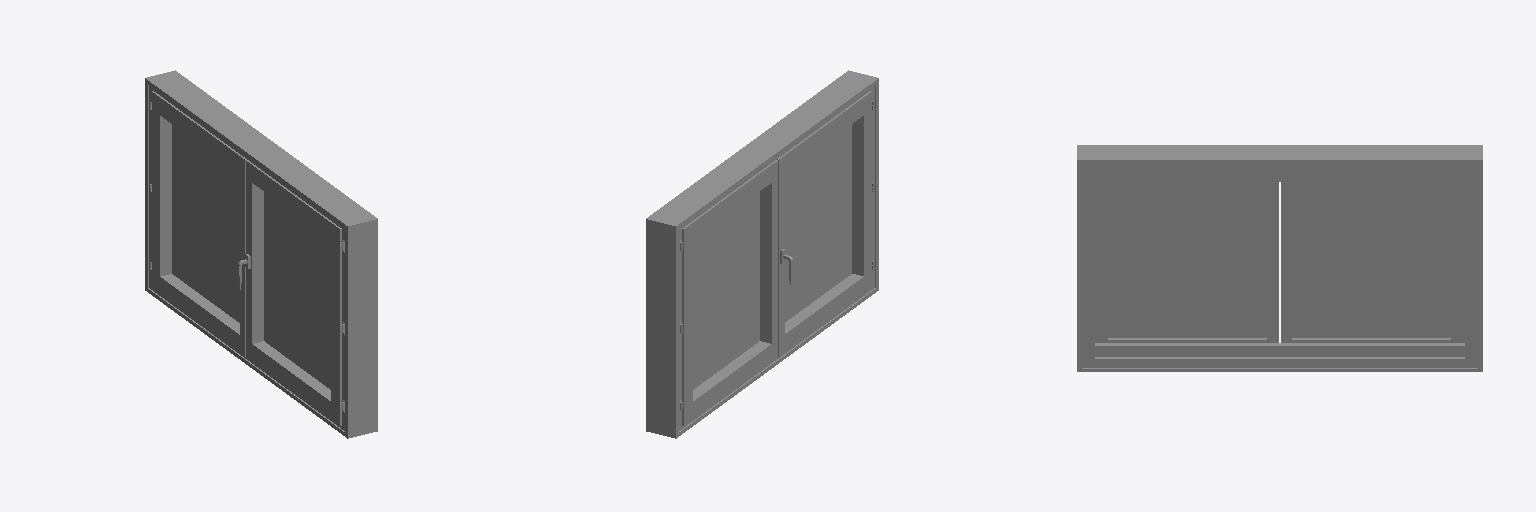
File: win.obj
3 views of the same model, side by side, from view 1: azimuth 30°, elevation 25°; view 2: azimuth 150°, elevation 25°; view 3: azimuth 270°, elevation 25° (orthographic).
Parts seen in each view (by area): view 1: Cube.005_Cube.006, Plane.003_Plane.005, Plane.004_Plane.006, Cube.004_Cube.005, Cube.003_Cube.004; view 2: Cube.005_Cube.006, Plane.003_Plane.005, Plane.004_Plane.006, Cube.003_Cube.004, Cube.004_Cube.005; view 3: Cube.005_Cube.006, Plane.003_Plane.005, Plane.004_Plane.006, Cube.003_Cube.004, Cube.004_Cube.005.
Boxes of the visible parts, <box> form: Cube.005_Cube.006: <box>145,70,377,438</box>; Plane.003_Plane.005: <box>172,124,239,322</box>; Plane.004_Plane.006: <box>264,192,330,389</box>; Cube.004_Cube.005: <box>238,160,344,425</box>; Cube.003_Cube.004: <box>150,91,246,356</box>; Cube.005_Cube.006: <box>646,70,878,438</box>; Plane.003_Plane.005: <box>693,192,759,389</box>; Plane.004_Plane.006: <box>785,124,851,321</box>; Cube.003_Cube.004: <box>680,160,777,425</box>; Cube.004_Cube.005: <box>777,91,874,356</box>; Cube.005_Cube.006: <box>1077,145,1482,371</box>; Plane.003_Plane.005: <box>1292,182,1450,337</box>; Plane.004_Plane.006: <box>1108,182,1266,337</box>; Cube.003_Cube.004: <box>1281,182,1464,342</box>; Cube.004_Cube.005: <box>1095,182,1278,342</box>.
Size of the model in its own units: 0.4139 by 2 by 3.46.